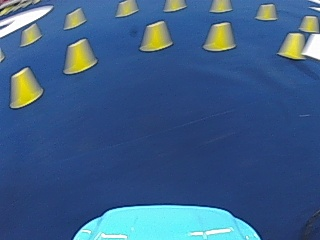cone: (9, 66, 43, 107), (63, 37, 97, 73), (140, 20, 172, 51), (203, 22, 235, 51), (278, 32, 305, 59), (64, 7, 85, 29), (20, 24, 40, 46), (302, 33, 319, 57), (299, 15, 318, 33), (116, 0, 135, 17), (256, 4, 276, 20), (210, 0, 230, 12), (164, 0, 184, 11)
